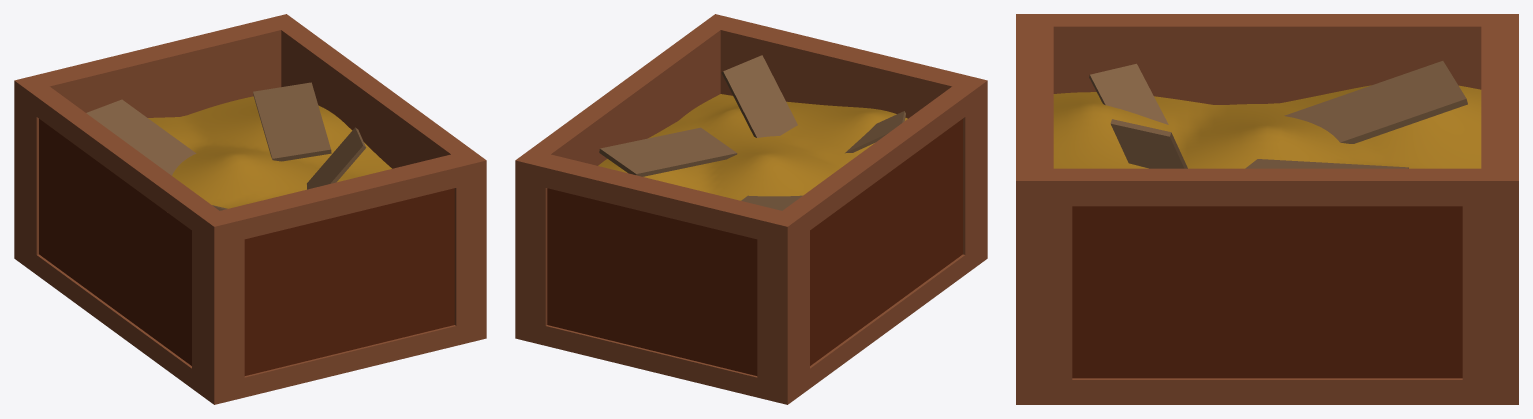
Rendered from plank_crate.fbx.
The picture shows the model from 3 angles, left to right: view 1: azimuth 30°, elevation 25°; view 2: azimuth 150°, elevation 25°; view 3: azimuth 270°, elevation 25°; orthographic projection. The views are drawn at different scales.
Visible parts, largest first — view 1: Cube, Cube.002, Cube.003, Cube.001, Cube.005; view 2: Cube, Cube.002, Cube.003, Cube.005, Cube.004, Cube.001; view 3: Cube, Cube.002, Cube.001, Cube.004, Cube.005, Cube.003.
Boxes of the visible parts, bbox=[...] form: Cube: bbox=[14, 14, 486, 404]; Cube.002: bbox=[148, 96, 391, 208]; Cube.003: bbox=[253, 82, 331, 161]; Cube.001: bbox=[86, 99, 196, 175]; Cube.005: bbox=[307, 127, 366, 189]; Cube: bbox=[515, 14, 987, 404]; Cube.002: bbox=[598, 94, 907, 200]; Cube.003: bbox=[599, 127, 737, 176]; Cube.005: bbox=[721, 55, 797, 137]; Cube.004: bbox=[845, 111, 905, 153]; Cube.001: bbox=[741, 195, 802, 210]; Cube: bbox=[1016, 14, 1518, 404]; Cube.002: bbox=[1053, 85, 1481, 168]; Cube.001: bbox=[1284, 61, 1467, 143]; Cube.004: bbox=[1089, 63, 1168, 124]; Cube.005: bbox=[1110, 119, 1187, 168]; Cube.003: bbox=[1245, 159, 1408, 168].
Bounding box in the file's own units: 200 × 130 × 254.
